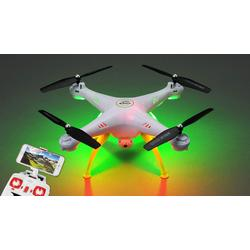drone: (38, 64, 215, 178)
